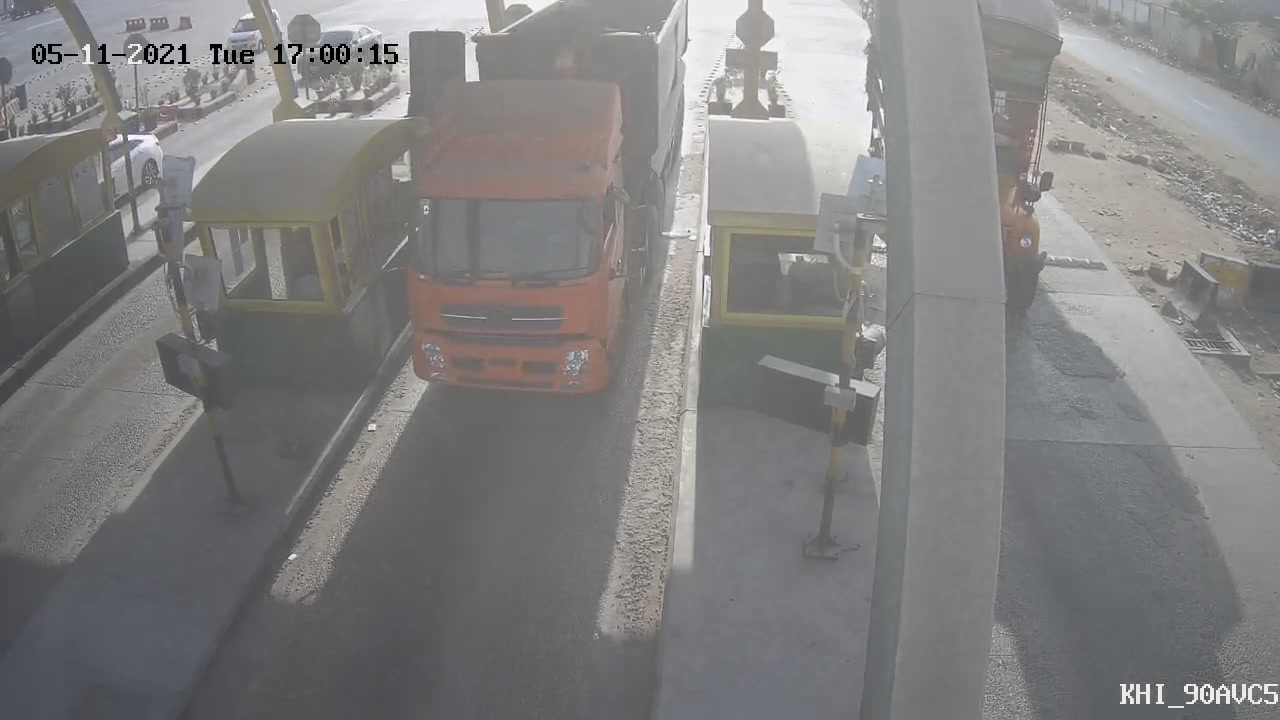F6: (348, 1, 713, 422)
